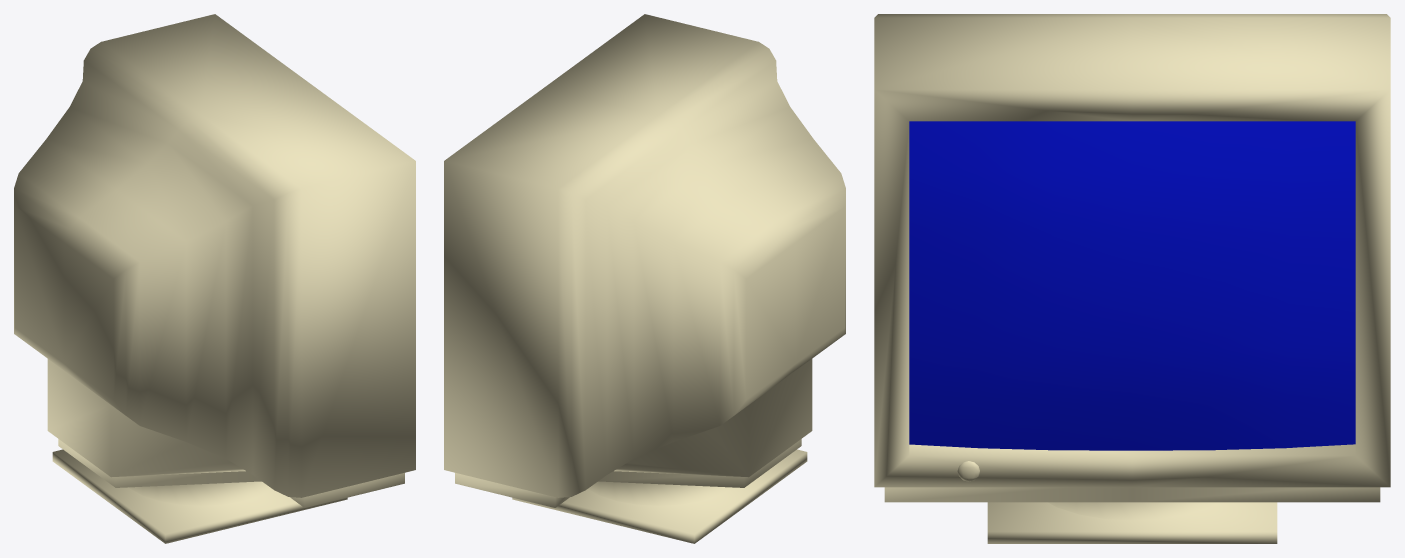
Rendered from computer.glb.
The picture shows the model from 3 angles, left to right: view 1: azimuth 30°, elevation 25°; view 2: azimuth 150°, elevation 25°; view 3: azimuth 270°, elevation 25°; orthographic projection. The views are drawn at different scales.
Parts seen in each view (by area): view 1: Cube; view 2: Cube; view 3: Cube.
Boxes of the visible parts, <box> form: Cube: <box>14,14,415,543</box>; Cube: <box>444,14,845,543</box>; Cube: <box>874,14,1390,543</box>.
Size of the model in its own units: 1.63 by 2.19 by 2.18.
